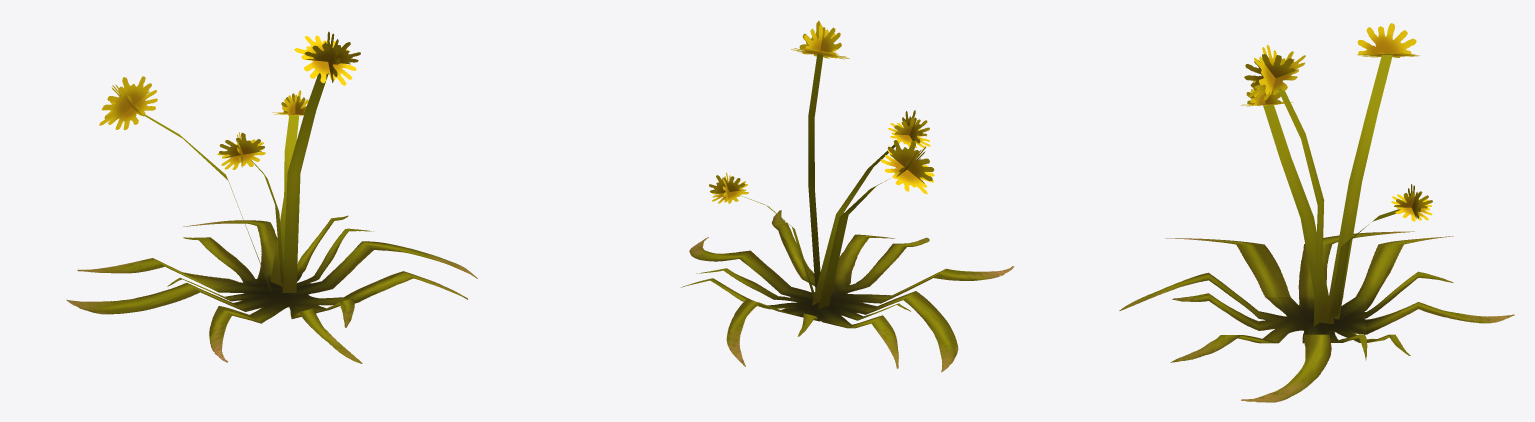
Rendered from flowerF.fbx.
The picture shows the model from 3 angles, left to right: view 1: azimuth 30°, elevation 25°; view 2: azimuth 150°, elevation 25°; view 3: azimuth 270°, elevation 25°; orthographic projection. The views are drawn at different scales.
Parts seen in each view (by area): view 1: flowerF; view 2: flowerF; view 3: flowerF.
Boxes of the visible parts, x1=… form: flowerF: x1=66, y1=31, x2=477, y2=363; flowerF: x1=681, y1=21, x2=1014, y2=372; flowerF: x1=1119, y1=23, x2=1514, y2=402.
Size of the model in its own units: 117 by 94.64 by 114.
1 material, 1 textured.
